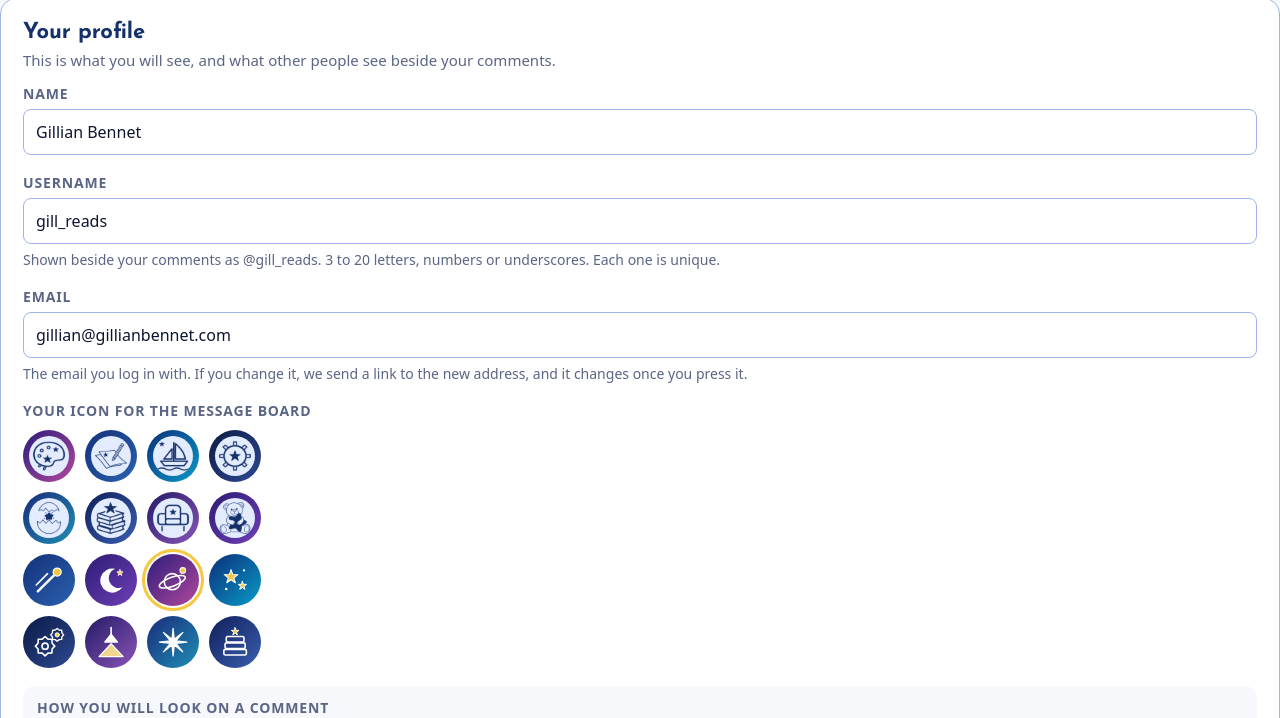
Test: changing the email › asks for a link to the new address, says so, and keeps showing the current email until it is confirmed
The image size is (1280, 718).
Replace the text in the field labelled "Email" with "new.me@example.com" at (640, 335), box [23,312,1257,358]
(page scrolled)
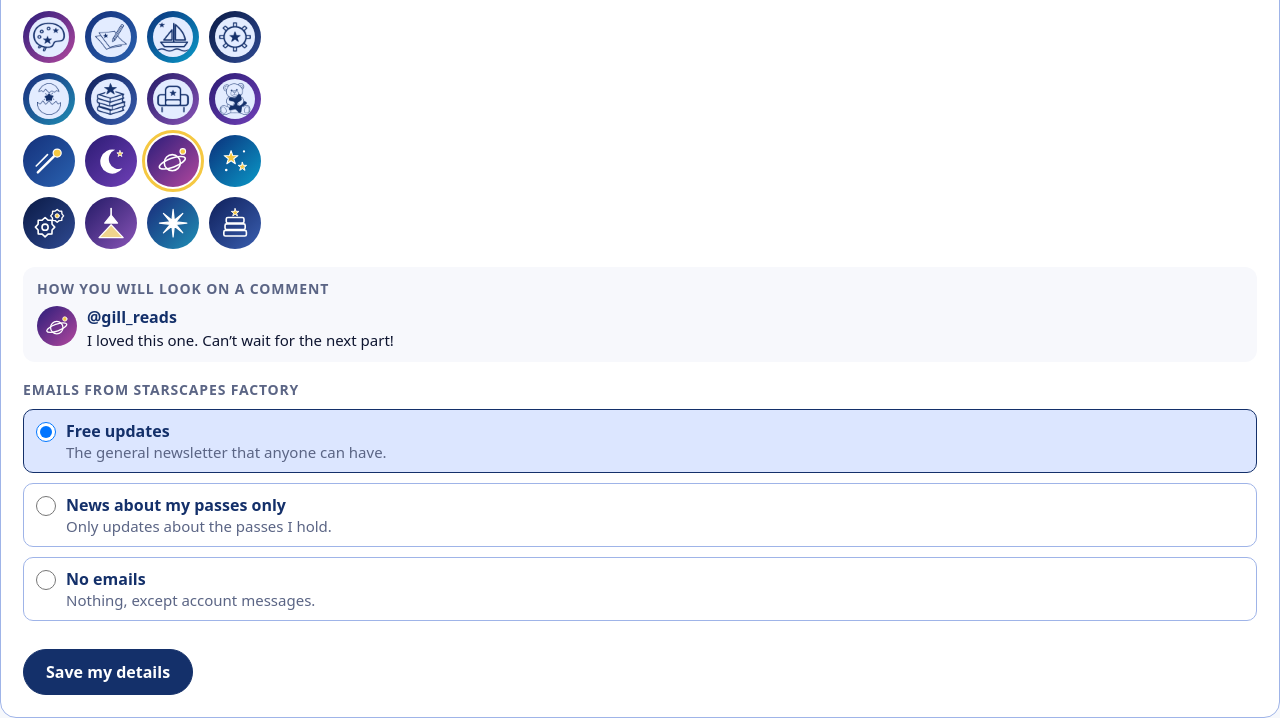
Click the button "Save my details" at (108, 672), box [23,649,193,695]
(page scrolled)
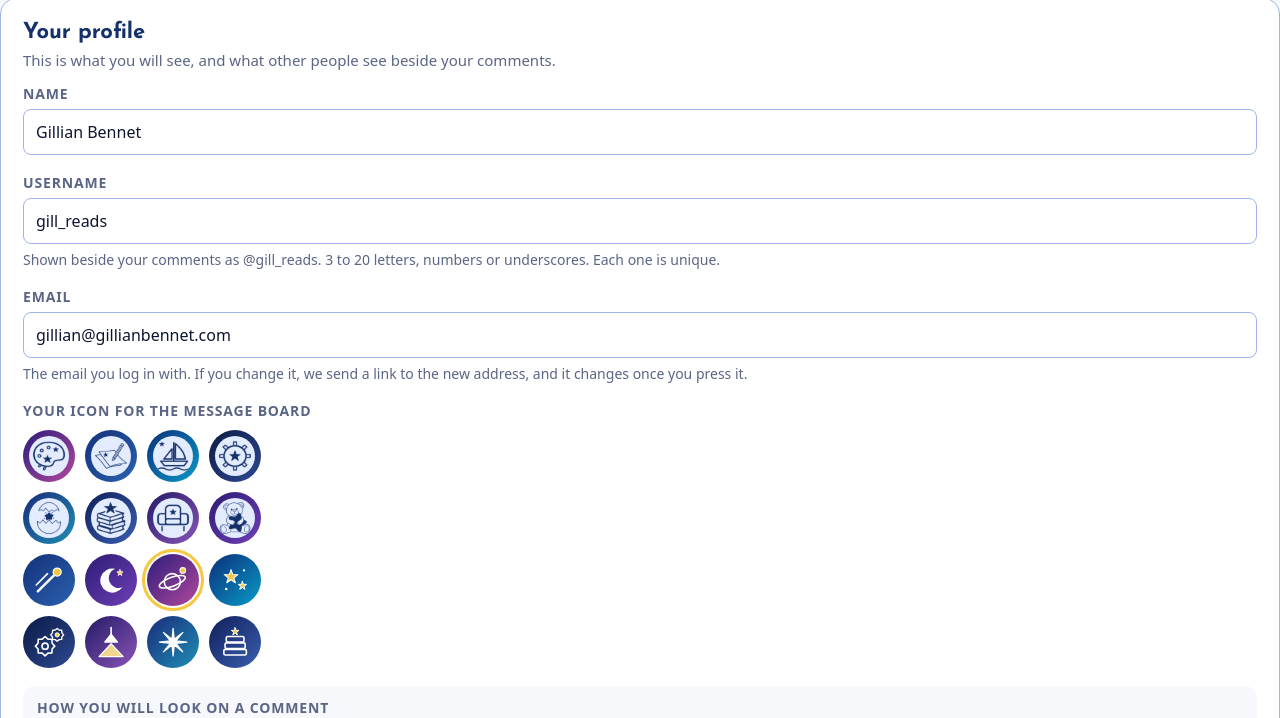
Expected: the field labelled "Email" holds "gillian@gillianbennet.com", [23,312,1257,358]
